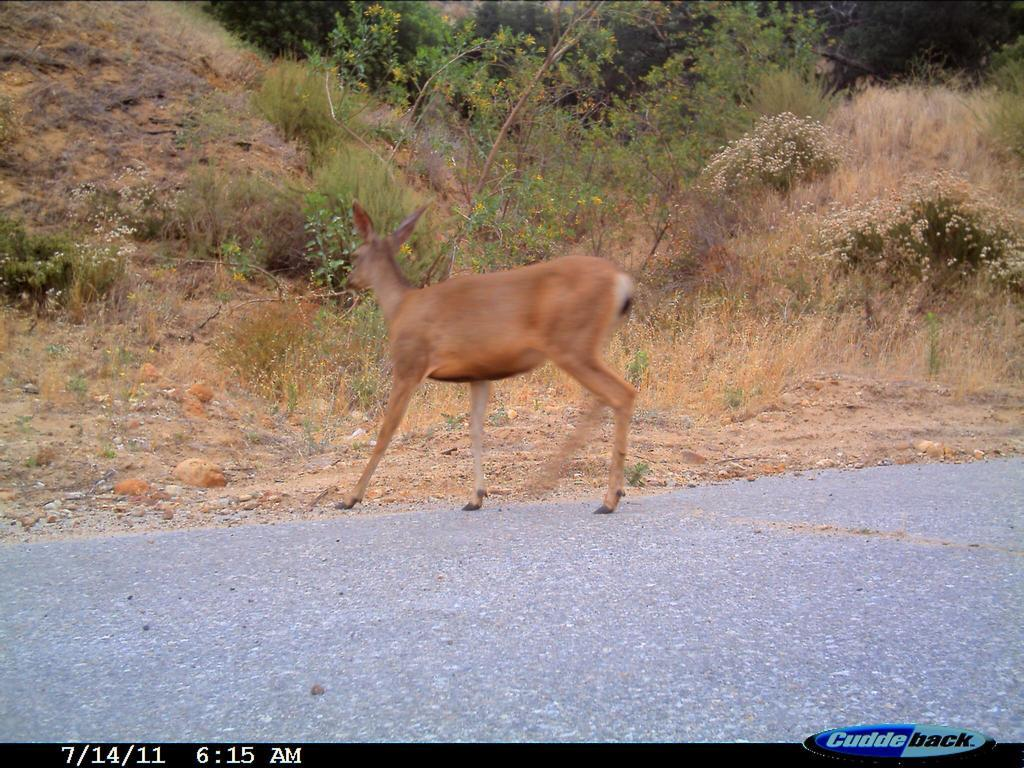deer: (300, 189, 669, 525)
